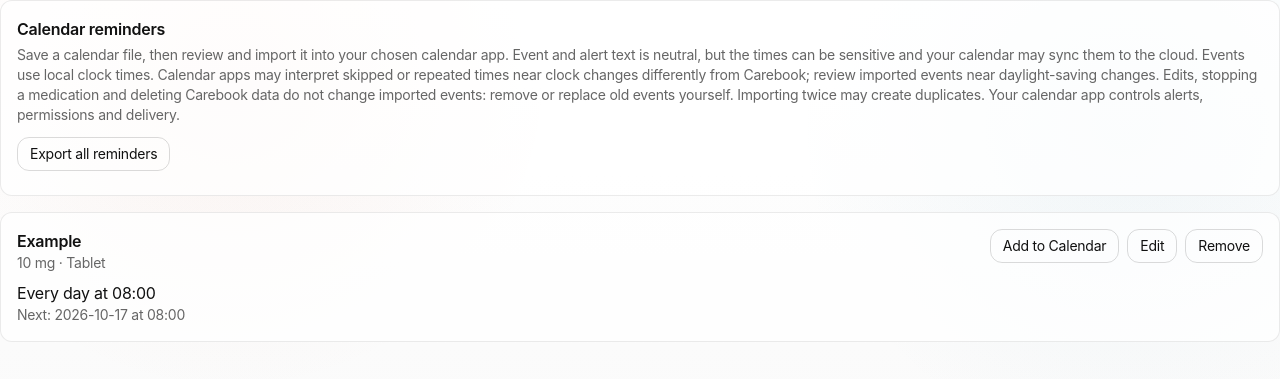
Test: MedicationsScreen › keeps every local record when a calendar download fails
Click the button with aria-label "Add to Calendar for Example".
click(1055, 246)  # box [990,229,1119,263]
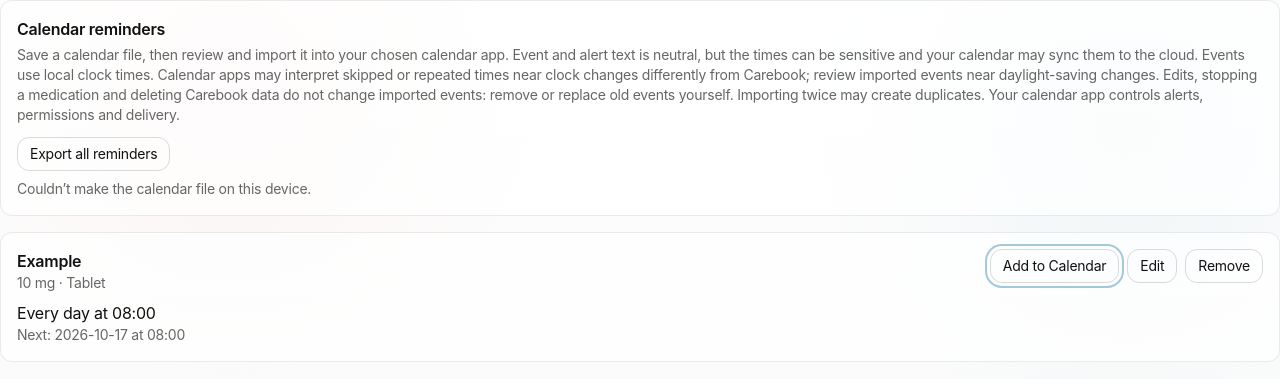
Check: the message reads "Couldn’t make the calendar file on this device.", box [17,180,311,197]
